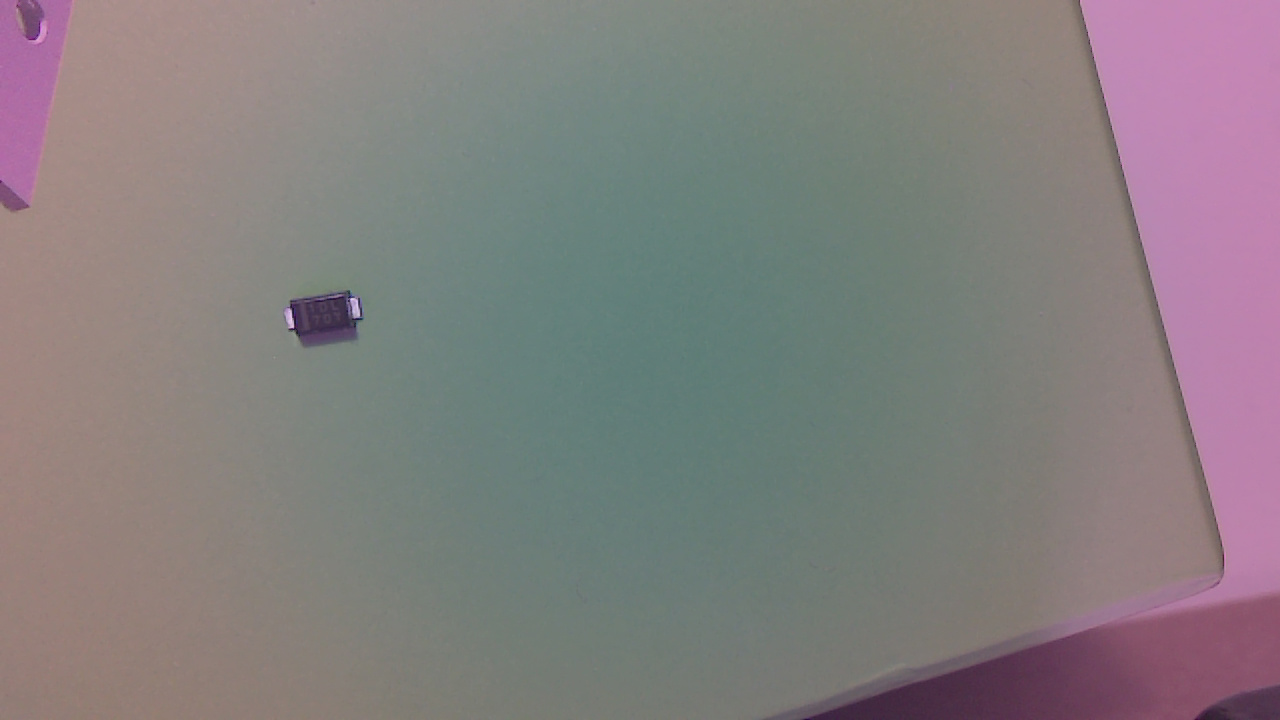Diode: (287, 296, 369, 348)
